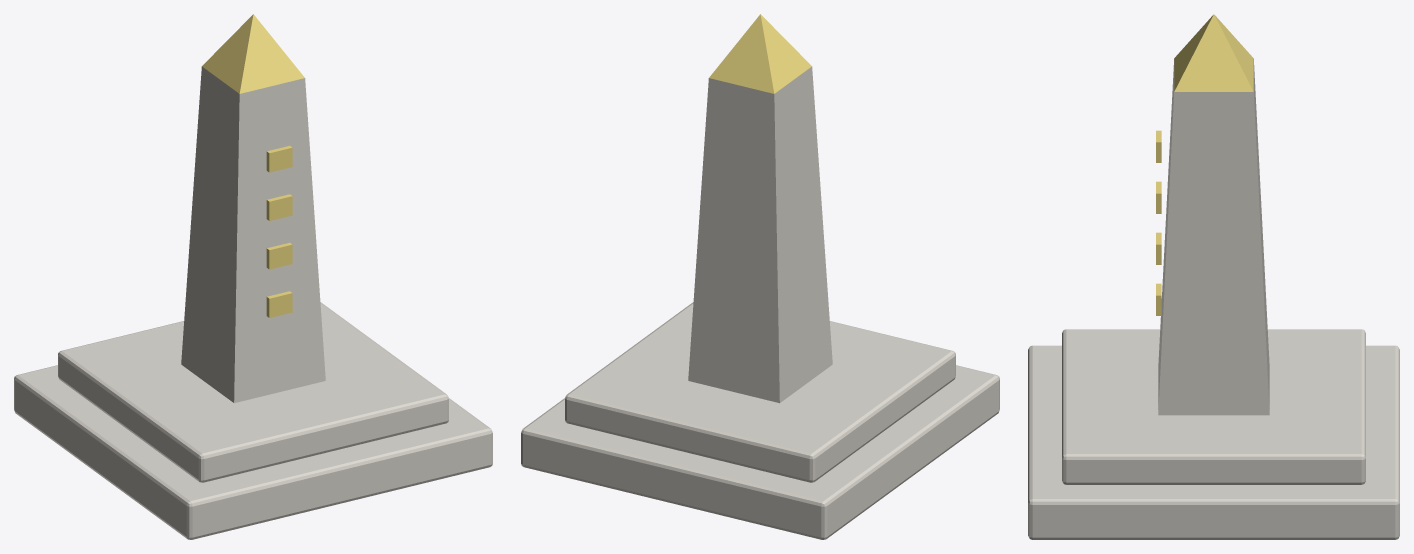
Rendered from Giza_Torre.fbx.
3 views of the same model, side by side, from view 1: azimuth 30°, elevation 25°; view 2: azimuth 150°, elevation 25°; view 3: azimuth 270°, elevation 25° (orthographic). The views are drawn at different scales.
Parts seen in each view (by area): view 1: Giza_Torre; view 2: Giza_Torre; view 3: Giza_Torre.
Part boxes in pixels (x1=…): Giza_Torre: x1=14, y1=14, x2=492, y2=539; Giza_Torre: x1=521, y1=14, x2=999, y2=539; Giza_Torre: x1=1028, y1=14, x2=1399, y2=539.
Size of the model in its own units: 0.66 by 0.88 by 0.66.
